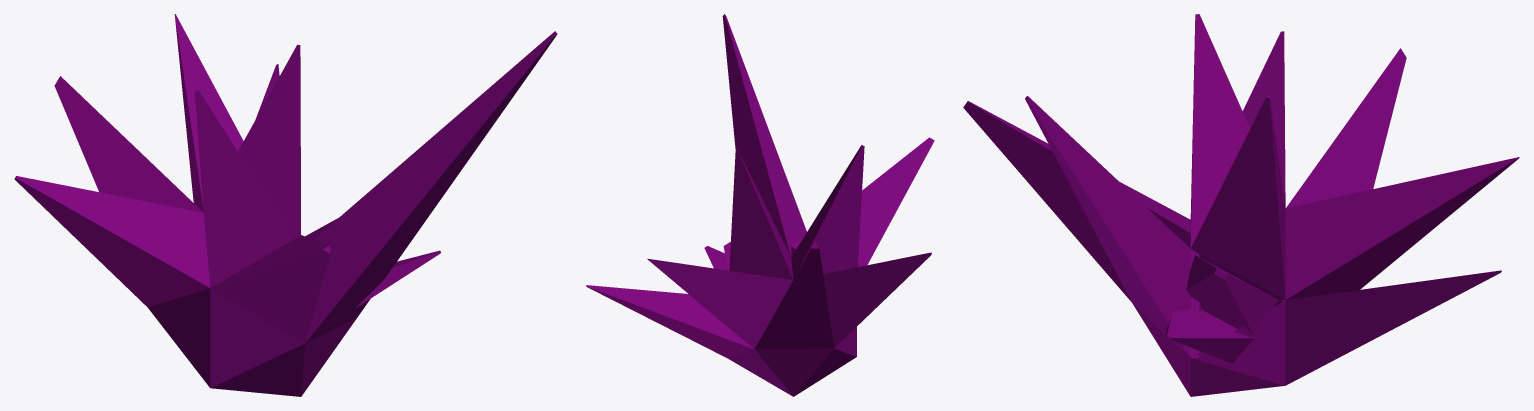
Rendered from Crystal (1).fbx.
The picture shows the model from 3 angles, left to right: view 1: azimuth 30°, elevation 25°; view 2: azimuth 150°, elevation 25°; view 3: azimuth 270°, elevation 25°; orthographic projection. The views are drawn at different scales.
Parts seen in each view (by area): view 1: Crystal; view 2: Crystal; view 3: Crystal.
Boxes of the visible parts, x1,y1,x2,y2 form: Crystal: (14, 14, 557, 396); Crystal: (586, 14, 934, 396); Crystal: (963, 14, 1519, 396).
Bounding box in the file's own units: 4.58 × 4.02 × 5.24.
